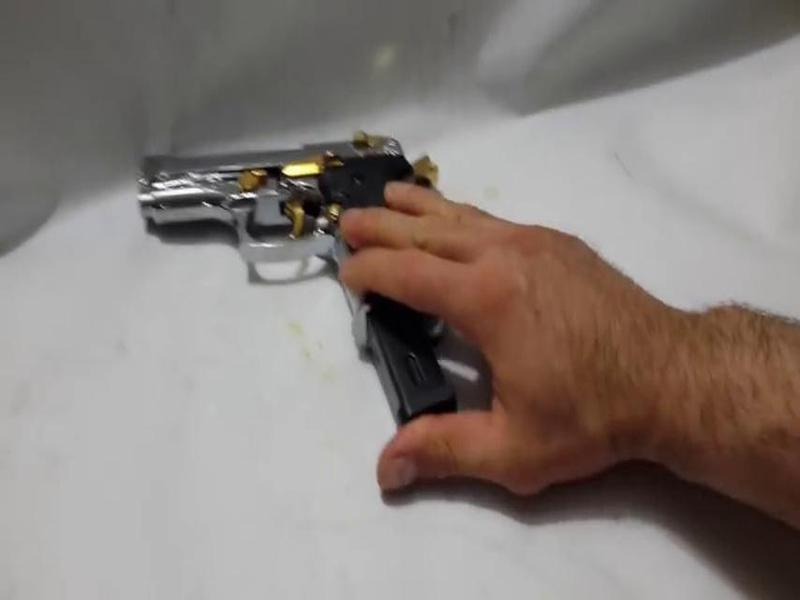Pistola: (126, 128, 466, 342)
